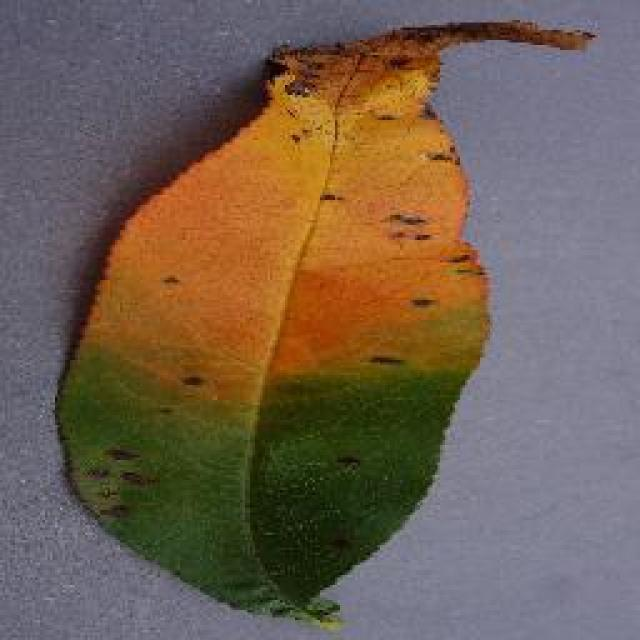Bacterial_spot: (93, 9, 605, 383)
